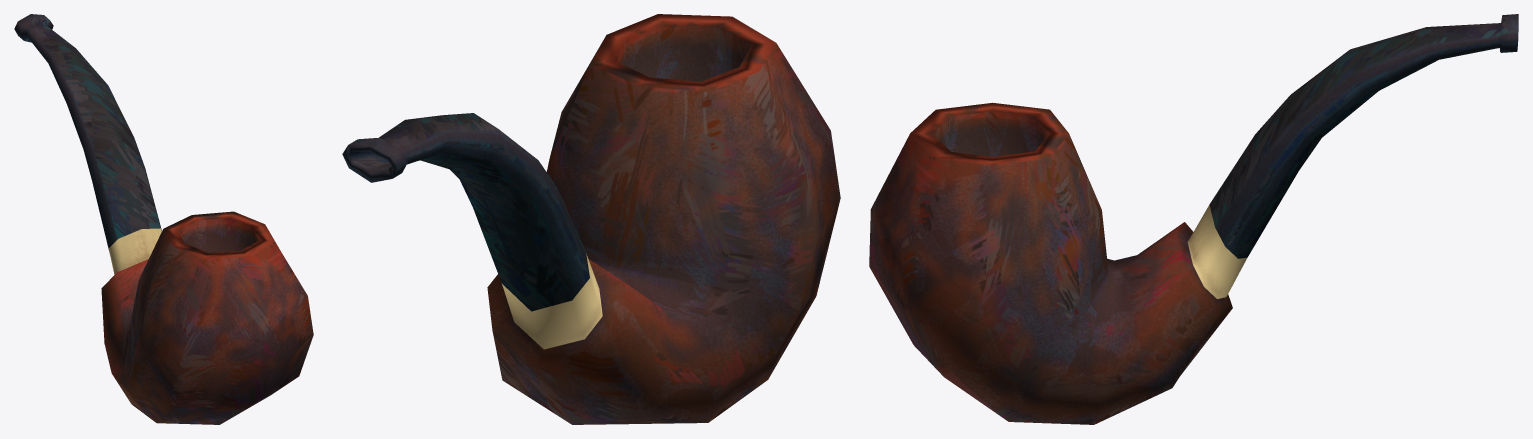
The model's file is smoke_pipe.fbx.
3 renders of one model, left to right at view 1: azimuth 30°, elevation 25°; view 2: azimuth 150°, elevation 25°; view 3: azimuth 270°, elevation 25°, orthographic. The views are drawn at different scales.
Parts seen in each view (by area): view 1: pipe_low; view 2: pipe_low; view 3: pipe_low.
Part boxes in pixels (x1,y1,x2,y2): pipe_low: (14,14,313,424); pipe_low: (342,14,840,424); pipe_low: (869,14,1518,424).
Bounding box in the file's own units: 194 × 326 × 489.
